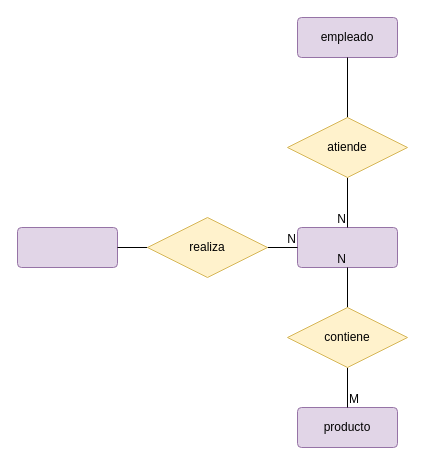
Image size: 425x465. Some labels were removed from this diagram. The shapes that lost their labels are listed below. From the top down, each one's box as (x1, y1, x2, y2) in pixels, then its label:
(16, 226, 118, 268): cliente
(296, 226, 398, 268): pedido
